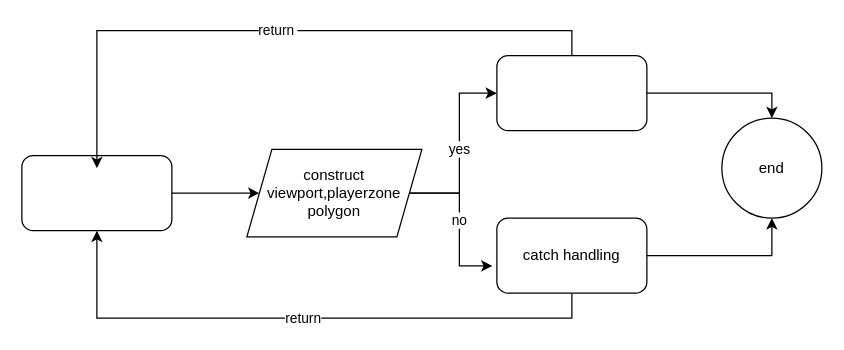
This 844x350 diagram has some shape labels left out. The shapes that lost their labels are listed below. From the top down, each one's centre as x and y in pixels, then its label:
At (571,92): "then call agent create,start the game".
At (96,192): "New promise status - pending".
